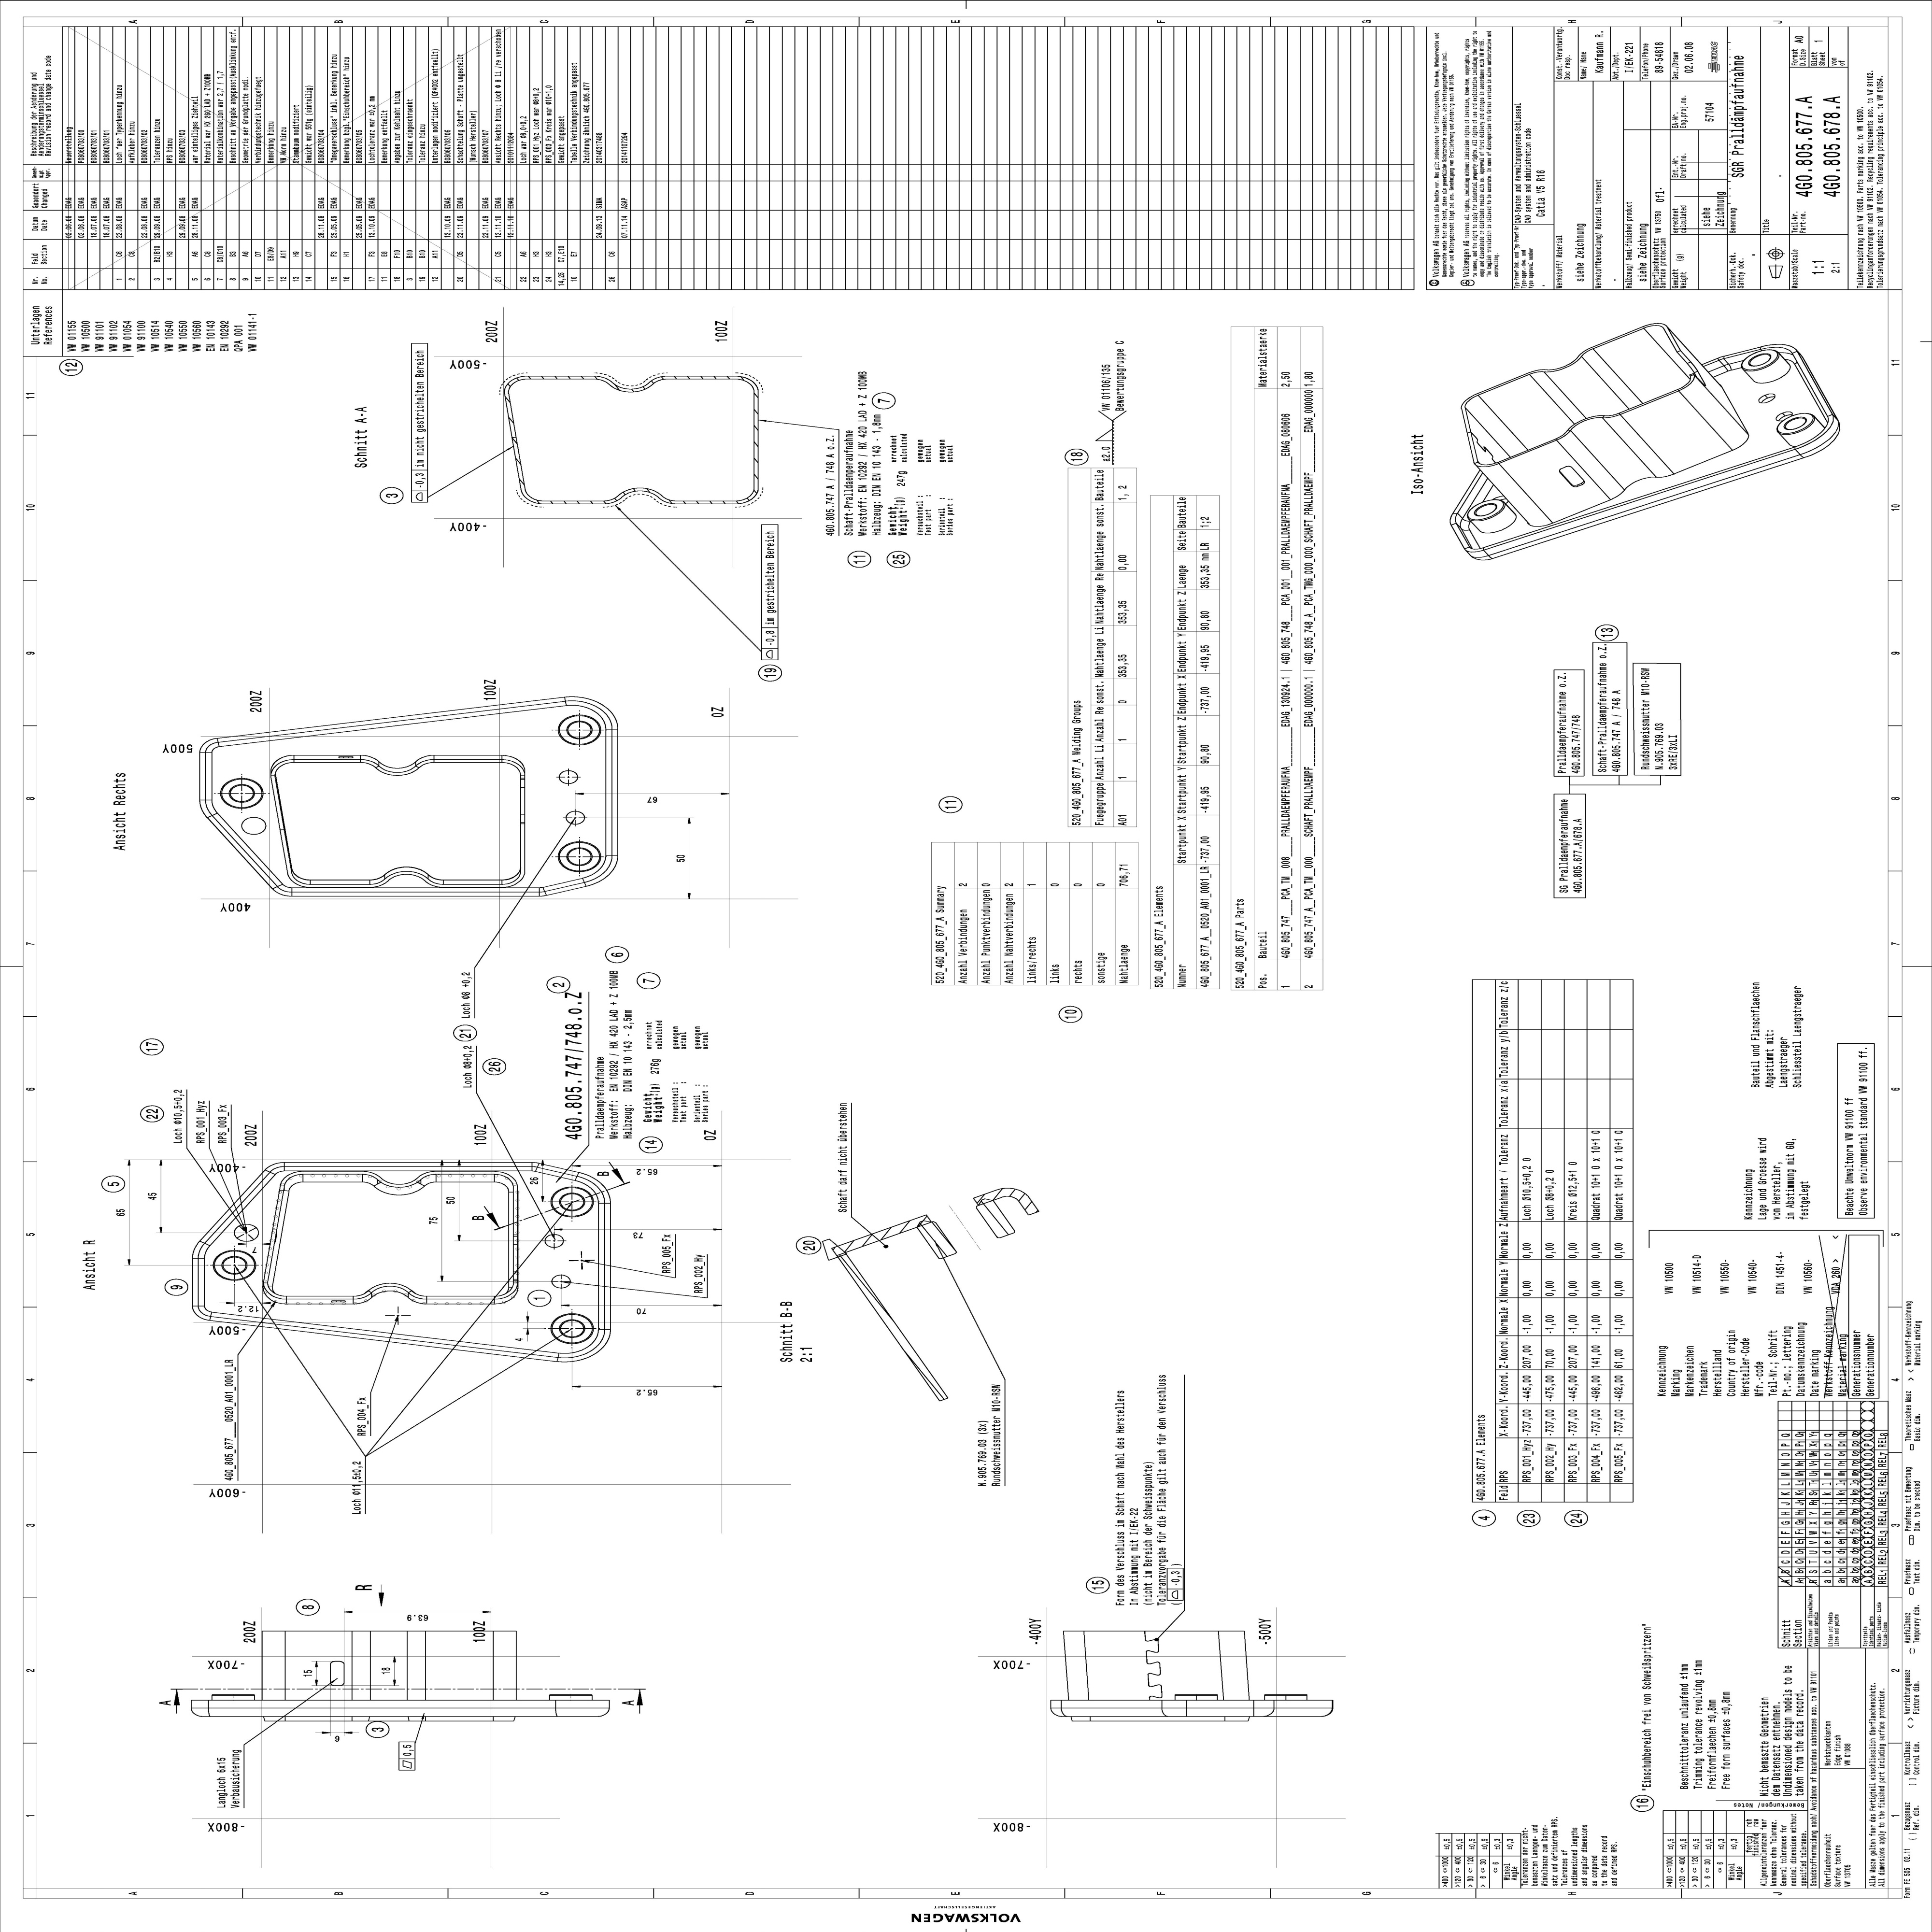InnerContour: (1555, 458, 1591, 494), (326, 1658, 349, 1688), (239, 814, 267, 837), (550, 1270, 575, 1292), (234, 1221, 260, 1240), (543, 1230, 564, 1251), (556, 766, 579, 786), (566, 809, 587, 826), (1753, 393, 1778, 405), (1773, 410, 1794, 423)
ThroughHole: (556, 711, 603, 747), (218, 775, 265, 810), (212, 1247, 257, 1283), (548, 1185, 594, 1219), (557, 840, 602, 874), (550, 1311, 594, 1345)
ThroughHoleExternal: (545, 1691, 596, 1704), (1261, 1691, 1311, 1704), (209, 1691, 257, 1702), (1173, 1693, 1221, 1702)
